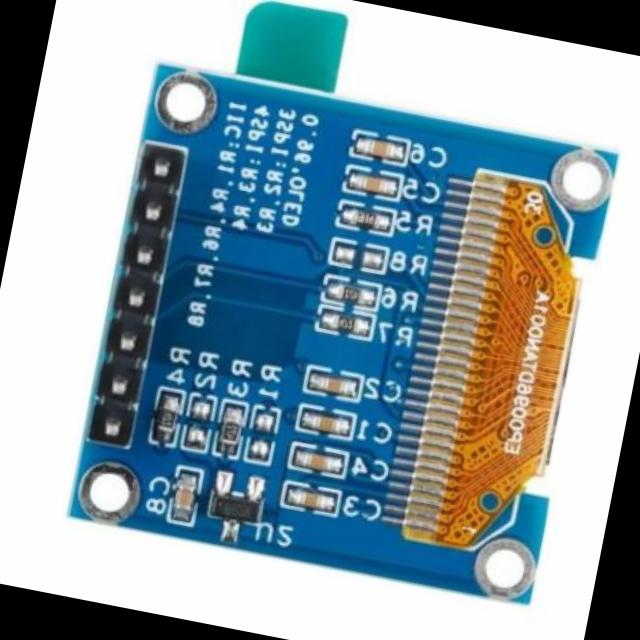capacitor: (169, 469, 204, 523), (298, 405, 354, 438), (352, 137, 406, 168), (293, 445, 346, 476), (306, 367, 352, 399), (346, 169, 394, 197), (286, 488, 330, 510)
connector: (76, 146, 184, 452)
resistor: (214, 404, 254, 459), (342, 206, 388, 236), (321, 309, 366, 339), (154, 394, 183, 437), (328, 277, 368, 306)
transistor: (204, 477, 268, 546)
